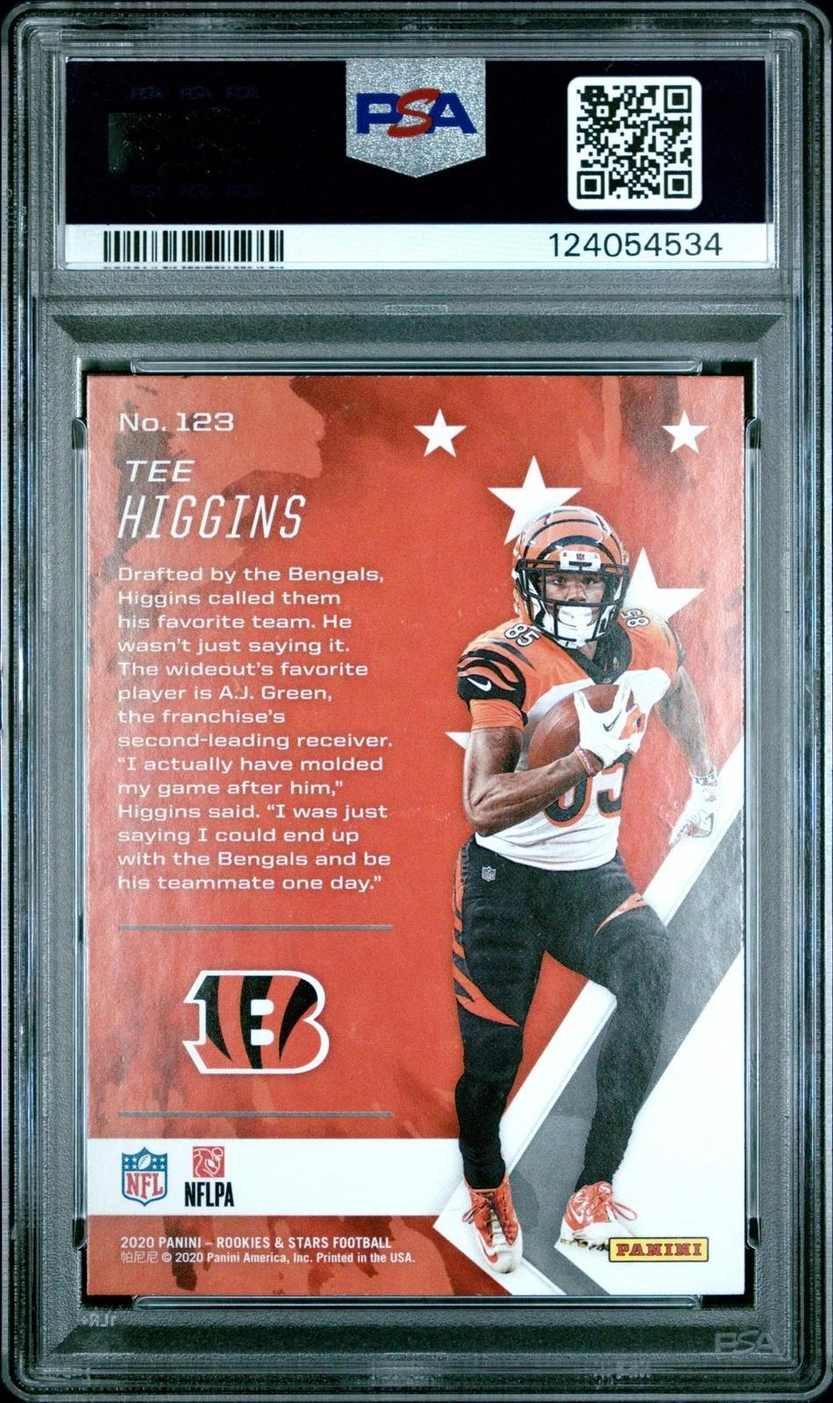card-2UtV: (86, 373, 746, 1296)
